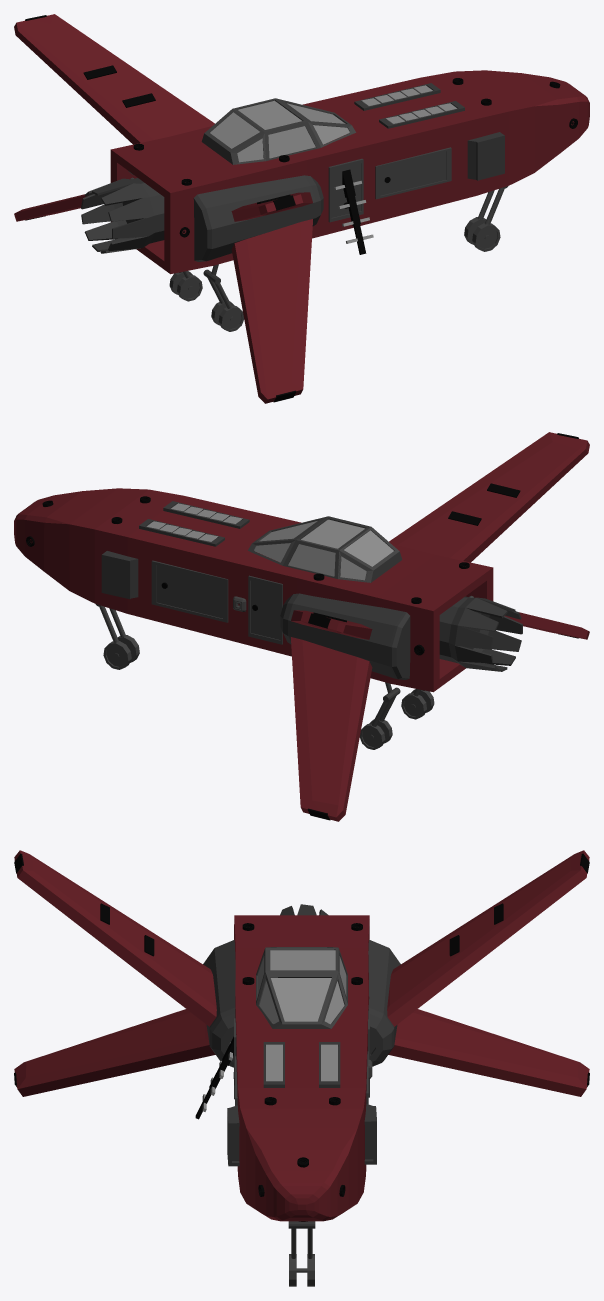
File: FighterGen7_red_closed.glb
3 renders of one model, top to bottom at view 1: azimuth 30°, elevation 25°; view 2: azimuth 150°, elevation 25°; view 3: azimuth 270°, elevation 25°, orthographic. The views are drawn at different scales.
Parts seen in each view (by area): view 1: Body, Cube.003, Cylinder, Cylinder.002, Cube.099, Cube.116, Cube.043, Cube.120, Cube.108, Cube.104, Cube.105, Cube.106 (+3 smaller); view 2: Body, Cube.003, Cylinder, Cylinder.002, Cube.114, Cube.099, Cube.115, Cube.043, Cube.108, Cube.104, Cube.105, Cube.106 (+3 smaller); view 3: Cube.003, Body, Cylinder, Cube.099, Cube.102, Cube.043, Cube.104, Cube.103, Cube.108.
Boxes of the visible parts, bbox=[...] form: Body: bbox=[110, 70, 589, 274]; Cube.003: bbox=[14, 14, 312, 403]; Cylinder: bbox=[193, 175, 323, 261]; Cylinder.002: bbox=[81, 178, 164, 253]; Cube.099: bbox=[201, 98, 355, 164]; Cube.116: bbox=[375, 147, 451, 199]; Cube.043: bbox=[467, 132, 504, 180]; Cube.120: bbox=[328, 158, 363, 222]; Cube.108: bbox=[354, 83, 464, 128]; Cube.104: bbox=[238, 100, 301, 129]; Cube.105: bbox=[268, 126, 315, 158]; Cube.106: bbox=[210, 112, 259, 148]; Body: bbox=[14, 488, 493, 692]; Cube.003: bbox=[291, 432, 589, 821]; Cylinder: bbox=[280, 593, 410, 679]; Cylinder.002: bbox=[439, 596, 522, 671]; Cube.114: bbox=[151, 560, 228, 622]; Cube.099: bbox=[248, 516, 402, 582]; Cube.115: bbox=[248, 575, 282, 644]; Cube.043: bbox=[101, 551, 138, 599]; Cube.108: bbox=[139, 501, 249, 546]; Cube.104: bbox=[301, 519, 364, 548]; Cube.105: bbox=[288, 544, 335, 576]; Cube.106: bbox=[344, 530, 393, 566]; Cube.003: bbox=[14, 850, 589, 1096]; Body: bbox=[234, 915, 369, 1221]; Cylinder: bbox=[203, 939, 400, 1067]; Cube.099: bbox=[256, 947, 347, 1028]; Cube.102: bbox=[271, 977, 331, 1021]; Cube.043: bbox=[227, 1104, 376, 1166]; Cube.104: bbox=[270, 950, 335, 970]; Cube.103: bbox=[259, 981, 344, 1024]; Cube.108: bbox=[263, 1042, 340, 1087].
Size of the model in its own units: 18.67 by 7.98 by 16.83.
